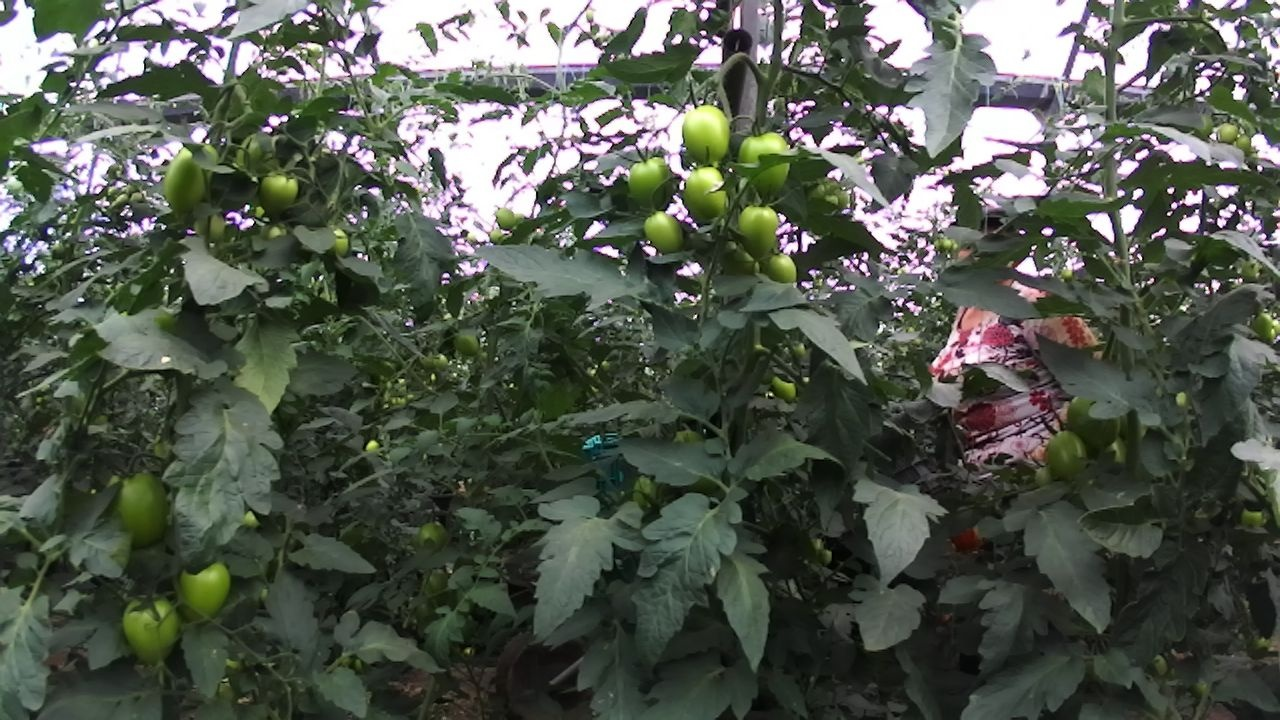tomato: (94, 459, 187, 564), (112, 588, 192, 672), (159, 135, 226, 224), (674, 96, 743, 173), (619, 149, 685, 227), (172, 558, 241, 631), (1059, 388, 1132, 453), (731, 121, 796, 194), (1034, 427, 1100, 482), (635, 205, 694, 266), (677, 159, 732, 221), (733, 198, 784, 263), (254, 163, 306, 220), (762, 247, 802, 291), (413, 516, 453, 556), (626, 470, 664, 511), (768, 368, 800, 406), (1210, 117, 1241, 148), (490, 204, 520, 234)
